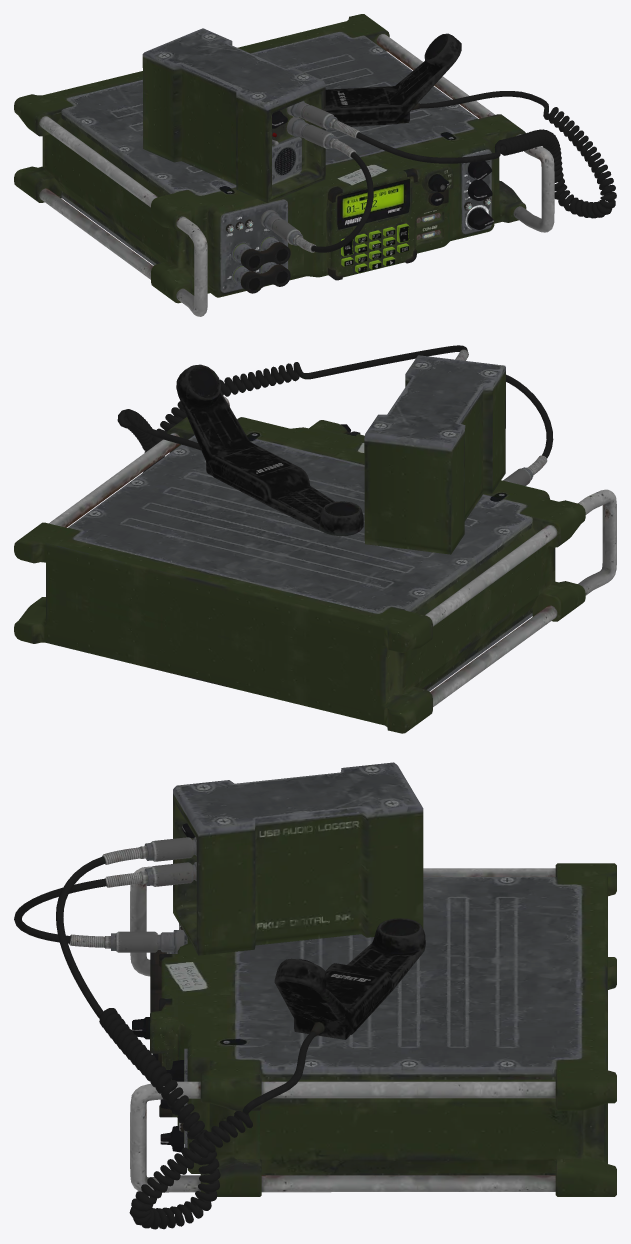
File: military_radio-opt.glb
3 views of the same model, one above another, from view 1: azimuth 30°, elevation 25°; view 2: azimuth 150°, elevation 25°; view 3: azimuth 270°, elevation 25° (orthographic). The views are drawn at different scales.
Visible parts, largest first — view 1: final_lambert1_0; view 2: final_lambert1_0; view 3: final_lambert1_0.
Part boxes in pixels (bbox=[...]): final_lambert1_0: bbox=[14, 14, 616, 316]; final_lambert1_0: bbox=[14, 345, 616, 733]; final_lambert1_0: bbox=[14, 762, 616, 1229].
Size of the model in its own units: 1.11 by 0.471 by 1.06.
1 material, 1 textured.
